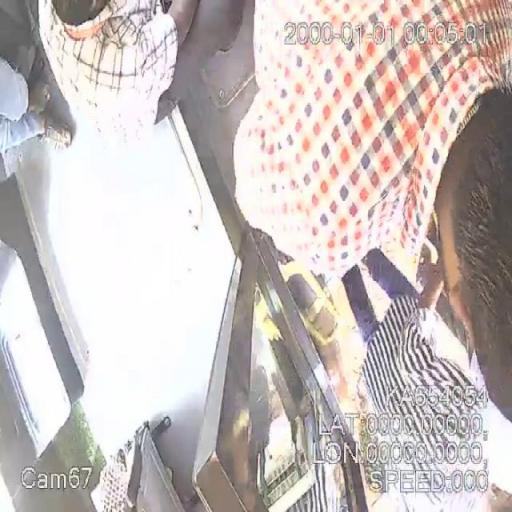persona: (232, 1, 510, 416), (330, 242, 512, 512), (28, 0, 246, 138)
